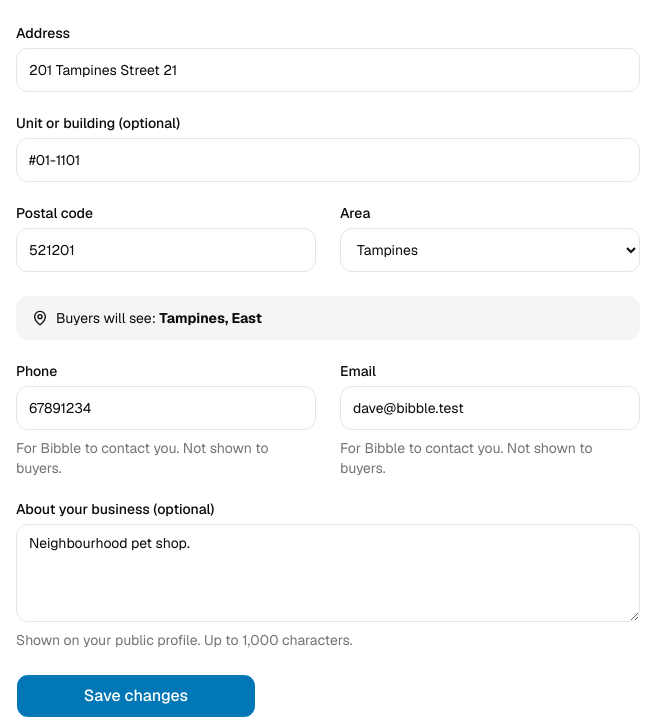
Scenario: Seller profile › shows locked details read-only and the rest as a form
The image size is (657, 725).
(page scrolled)
expect the field labelled "UEN" is not shown: met
What coordinates should you click on to do the following:
click the button "Save changes"
I would click on:
 (136, 696)
Its box is [16, 674, 256, 718].
(page scrolled)
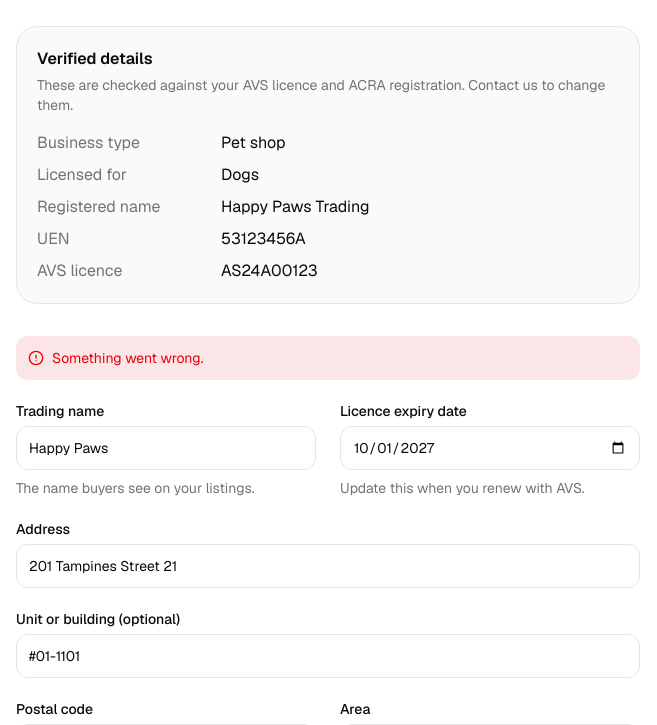
expect the message reads "Something went wrong.": met, box [52, 349, 203, 367]
